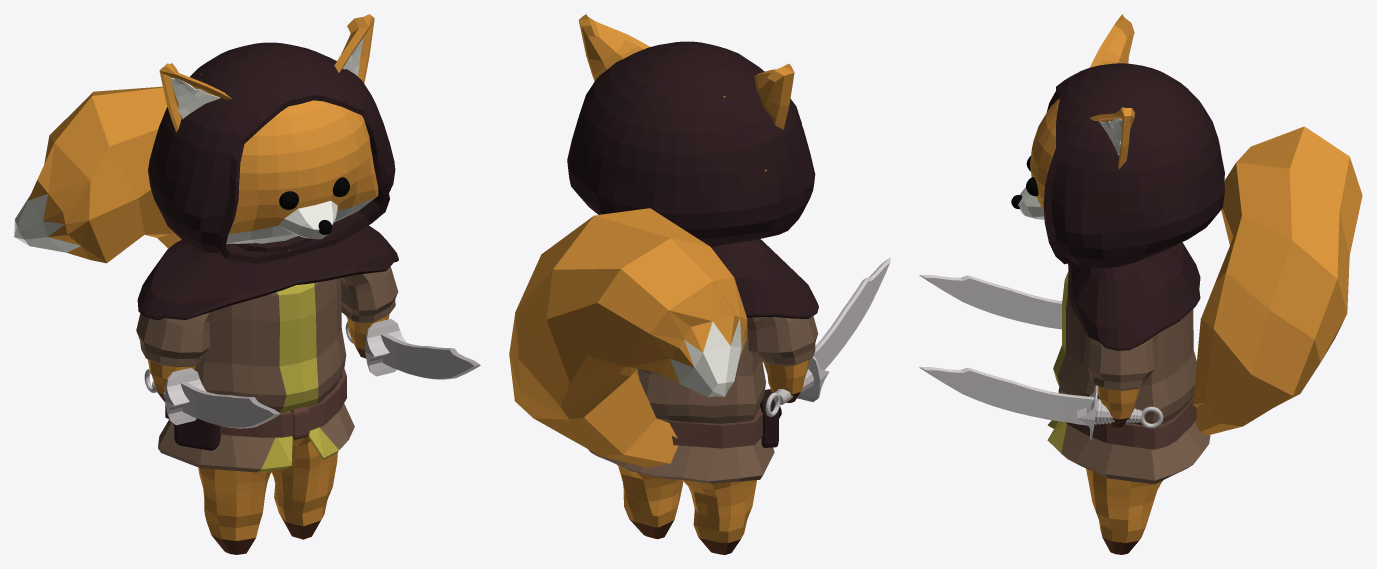
The model's file is 3D_Model_Sneaker_v5.fbx.
3 views of the same model, side by side, from view 1: azimuth 30°, elevation 25°; view 2: azimuth 150°, elevation 25°; view 3: azimuth 270°, elevation 25° (orthographic). The views are drawn at different scales.
Visible parts, largest first — view 1: Sneaker.009; view 2: Sneaker.009; view 3: Sneaker.009.
Boxes of the visible parts, x1,y1,x2,y2 form: Sneaker.009: [14, 14, 480, 554]; Sneaker.009: [509, 14, 890, 554]; Sneaker.009: [919, 14, 1362, 554].
Bounding box in the file's own units: 543 × 953 × 806.
